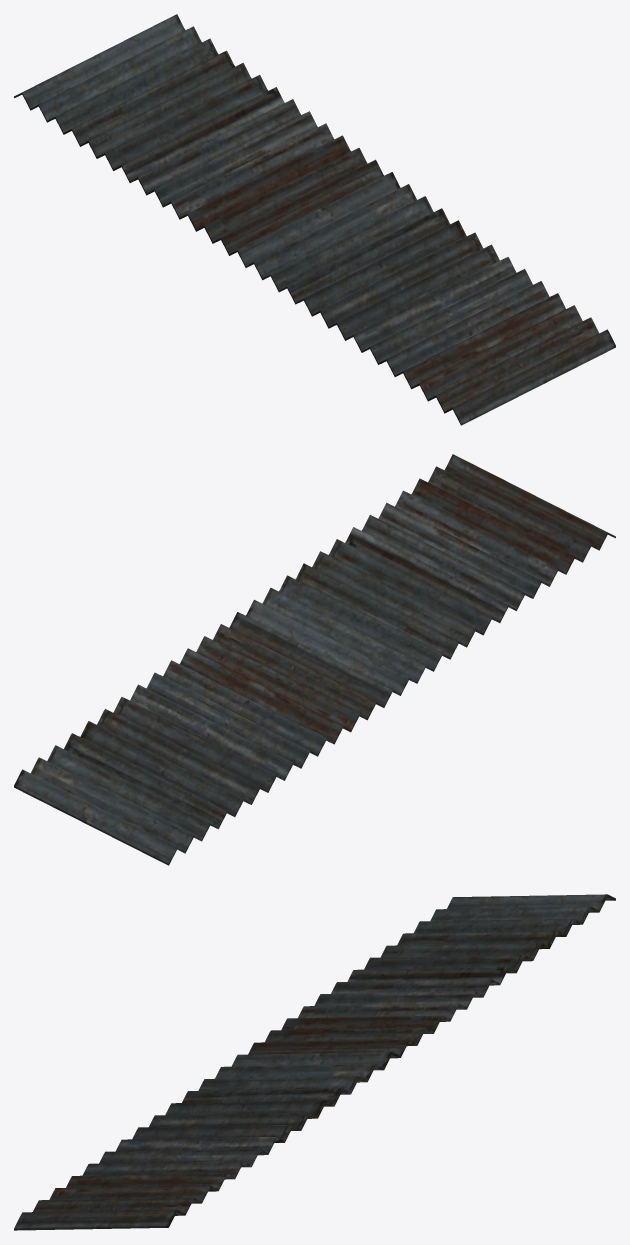
File: roof_hr_3_side_1_angle.dae
3 renders of one model, top to bottom at view 1: azimuth 30°, elevation 25°; view 2: azimuth 150°, elevation 25°; view 3: azimuth 330°, elevation 25°, orthographic.
Parts seen in each view (by area): view 1: roof_hr_3_side_1_angle; view 2: roof_hr_3_side_1_angle; view 3: roof_hr_3_side_1_angle.
Part boxes in pixels (left/top/right/bottom): roof_hr_3_side_1_angle: left=14, top=14, right=615, bottom=425; roof_hr_3_side_1_angle: left=14, top=454, right=615, bottom=865; roof_hr_3_side_1_angle: left=14, top=894, right=615, bottom=1230.
Bounding box in the file's own units: 0.8 × 4 × 0.26.
Materials: 1 (1 with a texture image).
